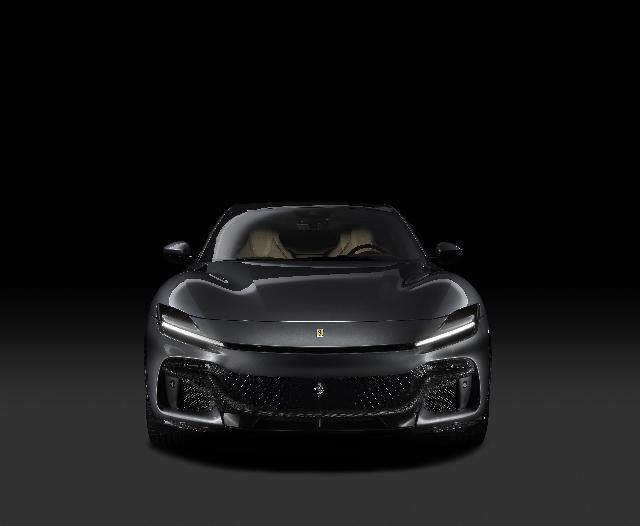ferrari: (144, 200, 492, 448)
